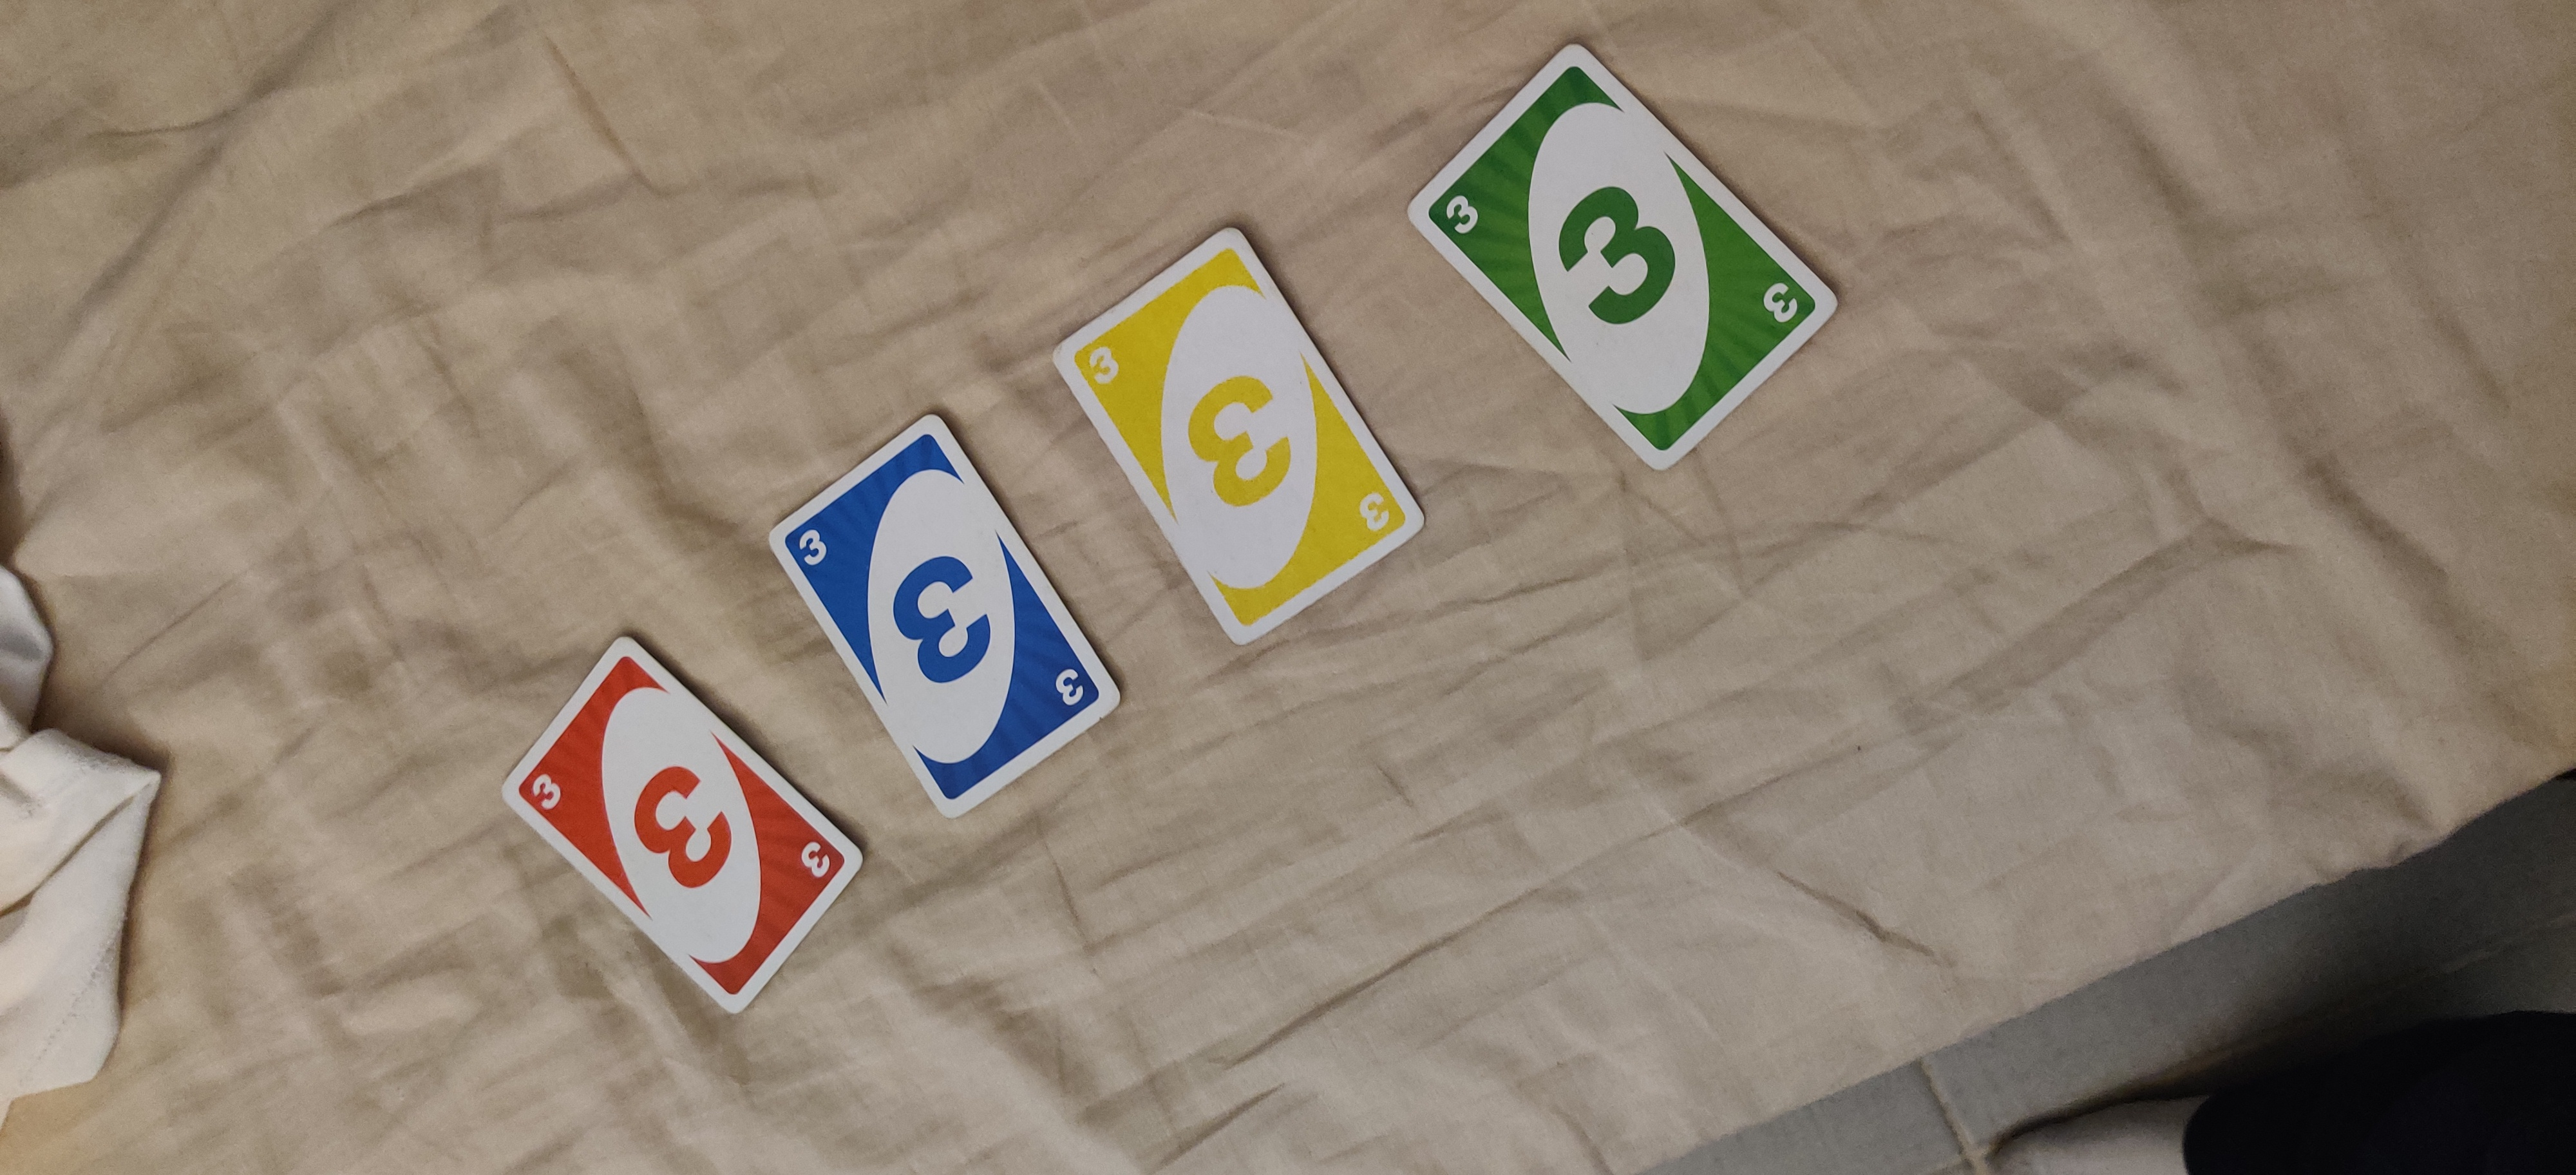trois: (1406, 41, 1840, 477), (1053, 225, 1428, 647), (766, 412, 1127, 820), (499, 633, 866, 1016)
